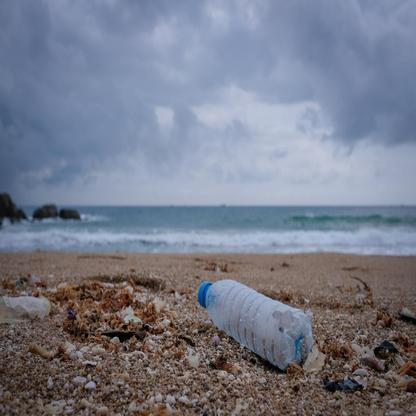plastic bottle: (198, 279, 311, 368)
